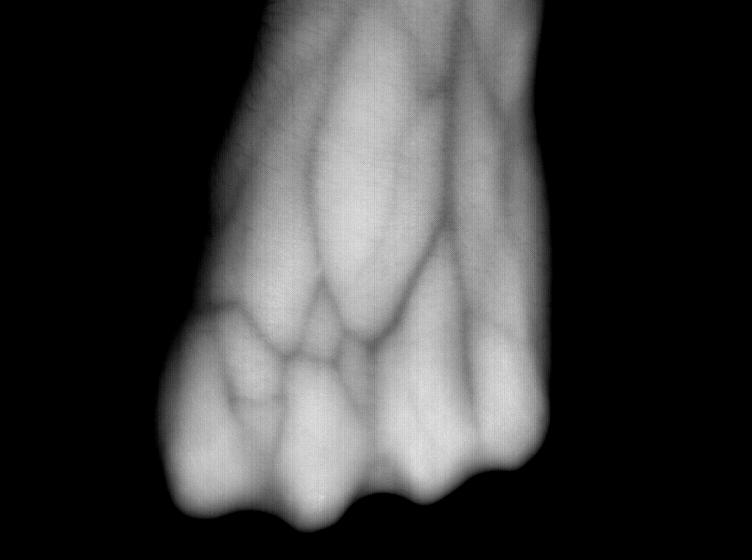Vein: (368, 79, 471, 349)
